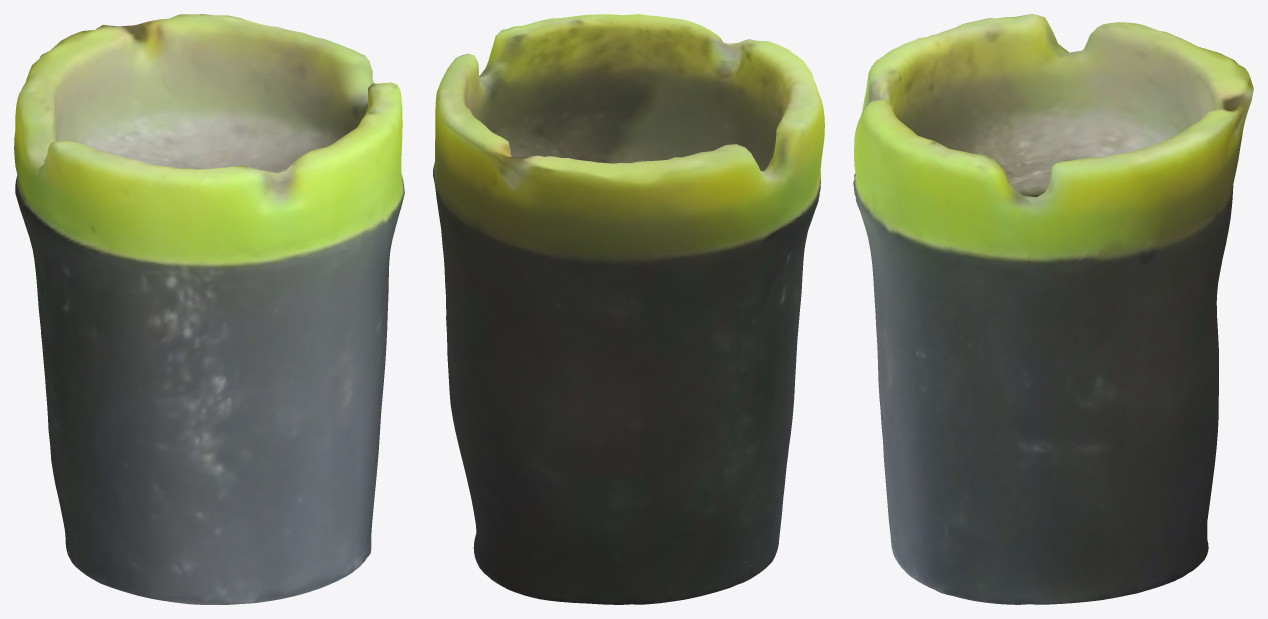
File: kullu.glb
The picture shows the model from 3 angles, left to right: view 1: azimuth 30°, elevation 25°; view 2: azimuth 150°, elevation 25°; view 3: azimuth 270°, elevation 25°; orthographic projection.
Visible parts, largest first — view 1: 3DModel; view 2: 3DModel; view 3: 3DModel.
Boxes of the visible parts, x1,y1,x2,y2 form: 3DModel: [14, 14, 404, 604]; 3DModel: [433, 14, 824, 604]; 3DModel: [853, 14, 1253, 604].
Size of the model in its own units: 0.0754 by 0.0967 by 0.0778.
Materials: 1 (1 with a texture image).
